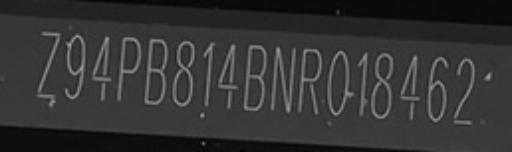letter: (268, 43, 298, 115), (450, 55, 480, 127), (114, 33, 142, 105), (242, 41, 270, 113), (170, 39, 198, 107), (214, 41, 242, 109), (396, 53, 424, 121), (36, 29, 62, 101), (424, 53, 450, 125), (142, 35, 168, 105), (296, 45, 322, 115), (326, 49, 352, 119), (370, 51, 396, 121), (90, 31, 114, 101), (64, 31, 86, 99), (198, 39, 216, 109), (354, 49, 368, 117)
